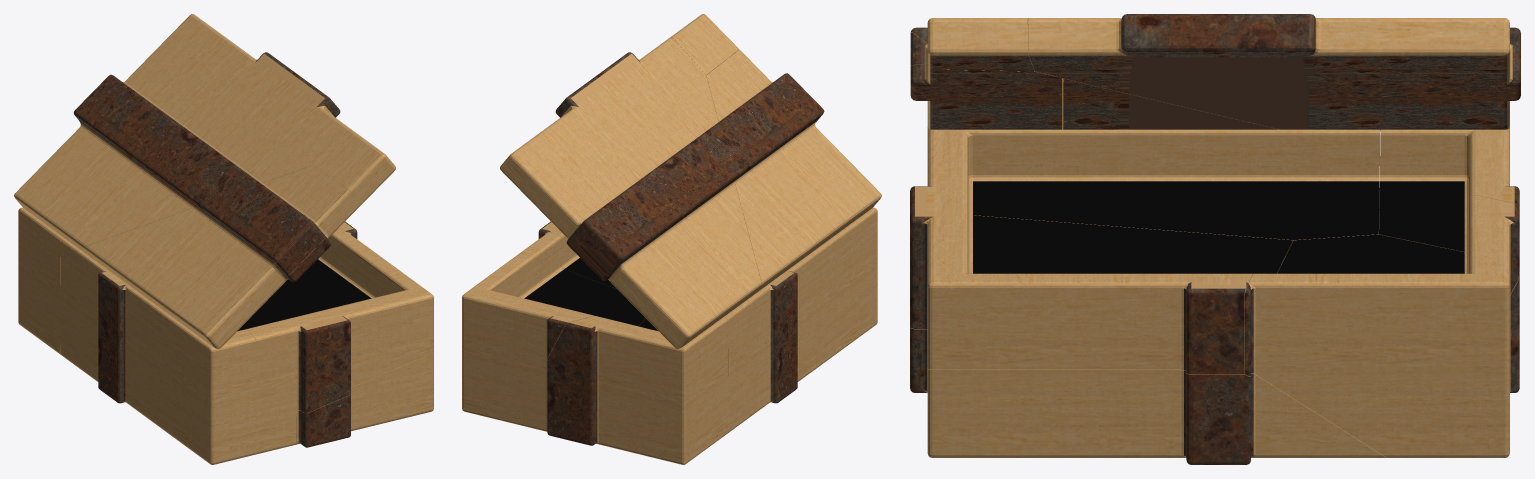
Rendered from BrokenCrate.fbx.
3 views of the same model, side by side, from view 1: azimuth 30°, elevation 25°; view 2: azimuth 150°, elevation 25°; view 3: azimuth 270°, elevation 25° (orthographic). The views are drawn at different scales.
Visible parts, largest first — view 1: CrateLid_cell, CrateBase_cell, CrateBase_cell.001, CrateLid_cell.003, CrateBase_cell.004, CrateBase_cell.002, CrateLid_cell.004, CrateLid_cell.001, CrateLid_cell.002; view 2: CrateLid_cell, CrateBase_cell.002, CrateLid_cell.003, CrateBase_cell, CrateBase_cell.003, CrateLid_cell.004, CrateBase_cell.001; view 3: CrateBase_cell.001, CrateBase_cell.003, CrateLid_cell, CrateBase_cell, CrateBase_cell.004, CrateBase_cell.002, CrateLid_cell.002, CrateLid_cell.003, CrateLid_cell.004.
Boxes of the visible parts, box(x1,y1,x2,y2) form: CrateLid_cell: box(14, 14, 352, 259); CrateBase_cell: box(60, 238, 295, 464); CrateBase_cell.001: box(239, 221, 433, 413); CrateLid_cell.003: box(84, 165, 347, 336); CrateBase_cell.004: box(296, 352, 433, 447); CrateBase_cell.002: box(18, 207, 64, 354); CrateLid_cell.004: box(313, 130, 395, 202); CrateLid_cell.001: box(203, 190, 354, 342); CrateLid_cell.002: box(188, 192, 362, 348); CrateLid_cell: box(500, 37, 761, 348); CrateBase_cell.002: box(518, 316, 728, 464); CrateLid_cell.003: box(706, 50, 880, 294); CrateBase_cell: box(639, 207, 877, 432); CrateBase_cell.003: box(462, 229, 645, 424); CrateLid_cell.004: box(670, 14, 739, 75); CrateBase_cell.001: box(541, 221, 616, 288); CrateBase_cell.001: box(910, 152, 1293, 374); CrateBase_cell.003: box(1245, 195, 1519, 457); CrateLid_cell: box(1028, 14, 1520, 130); CrateBase_cell: box(927, 127, 1379, 240); CrateBase_cell.004: box(910, 328, 1387, 464); CrateBase_cell.002: box(1379, 126, 1519, 392); CrateLid_cell.002: box(910, 63, 1061, 129); CrateLid_cell.003: box(911, 27, 1278, 129); CrateLid_cell.004: box(927, 18, 1034, 71).
Size of the model in its own units: 214 by 236 by 315.
3 materials, 2 textured.
